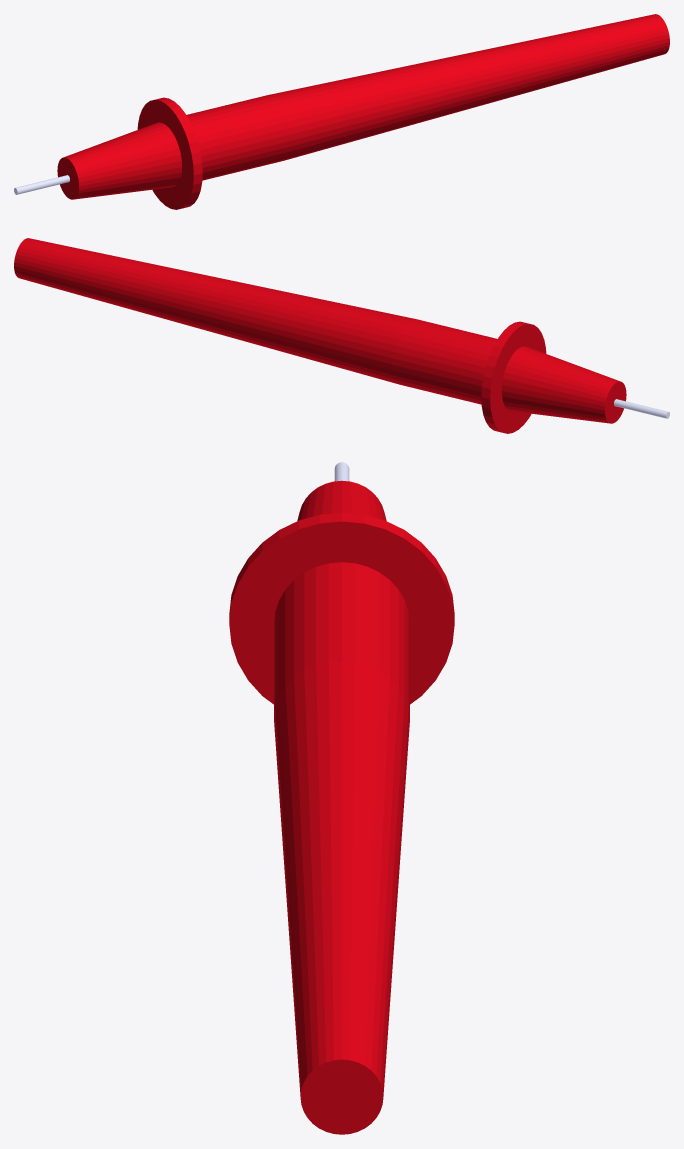
Rendered from better_probe 1.fbx.
The picture shows the model from 3 angles, top to bottom: view 1: azimuth 30°, elevation 25°; view 2: azimuth 150°, elevation 25°; view 3: azimuth 270°, elevation 25°; orthographic projection. The views are drawn at different scales.
Visible parts, largest first — view 1: Cylinder.001, Cylinder.002, Cylinder, Cylinder.003, Cylinder.004; view 2: Cylinder.001, Cylinder.002, Cylinder, Cylinder.003, Cylinder.004; view 3: Cylinder.001, Cylinder.003, Cylinder, Cylinder.002.
Part boxes in pixels (x1,y1,x2,y2): Cylinder.001: [269, 14, 669, 160]; Cylinder.002: [57, 122, 182, 199]; Cylinder: [186, 95, 291, 180]; Cylinder.003: [137, 97, 202, 209]; Cylinder.004: [14, 175, 69, 194]; Cylinder.001: [14, 238, 414, 384]; Cylinder.002: [501, 346, 626, 423]; Cylinder: [392, 319, 497, 404]; Cylinder.003: [481, 321, 546, 433]; Cylinder.004: [614, 399, 669, 418]; Cylinder.001: [274, 660, 409, 1134]; Cylinder.003: [229, 512, 454, 704]; Cylinder: [274, 562, 409, 720]; Cylinder.002: [297, 480, 386, 520].
Bounding box in the file's own units: 395 × 59.9 × 59.9.
